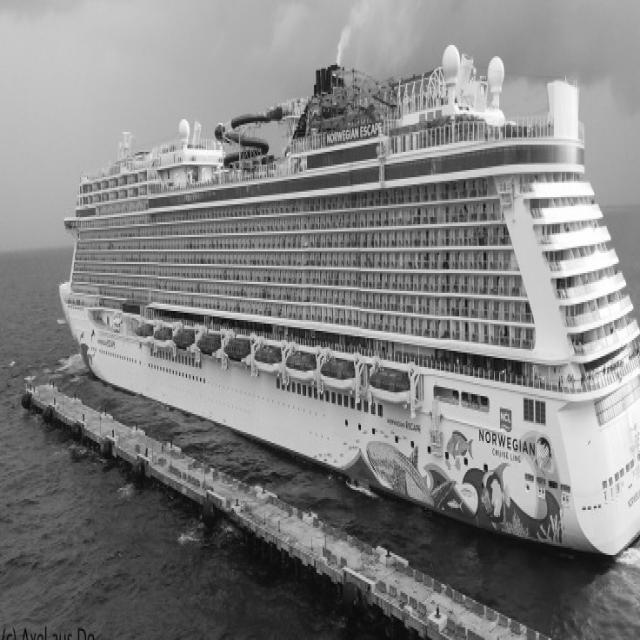cruises: (40, 35, 640, 574)
